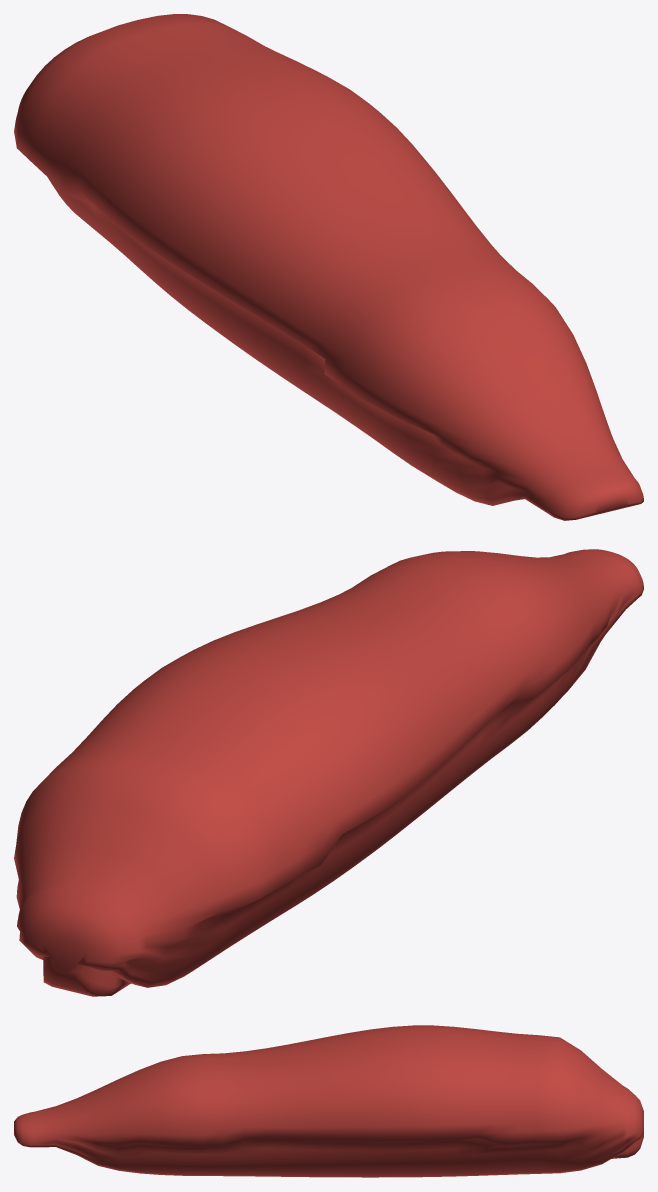
Rendered from teardrop.glb.
The picture shows the model from 3 angles, top to bottom: view 1: azimuth 30°, elevation 25°; view 2: azimuth 150°, elevation 25°; view 3: azimuth 270°, elevation 25°; orthographic projection. The views are drawn at different scales.
Parts seen in each view (by area): view 1: lod0; view 2: lod0; view 3: lod0.
Boxes of the visible parts, <box> form: lod0: <box>14,14,643,520</box>; lod0: <box>14,549,643,996</box>; lod0: <box>14,1025,643,1177</box>.
Size of what is drawn, in the model's own units: 0.2885 by 0.2205 by 1.
